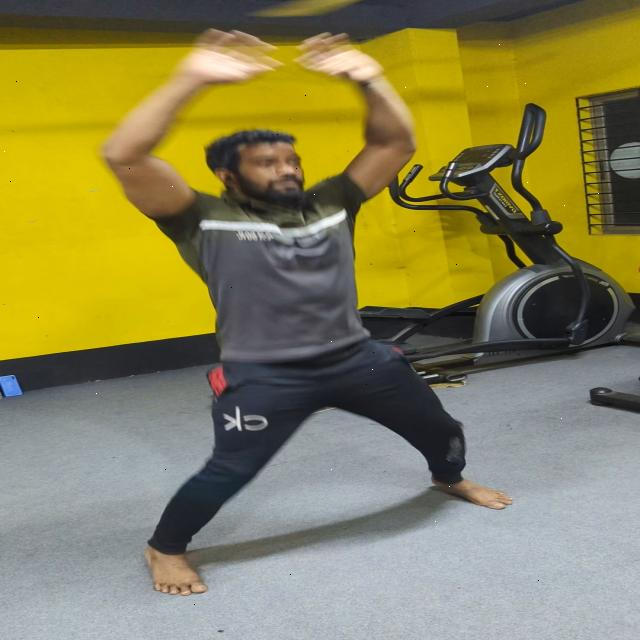Normal_JumpingJacks: (71, 23, 541, 556)
